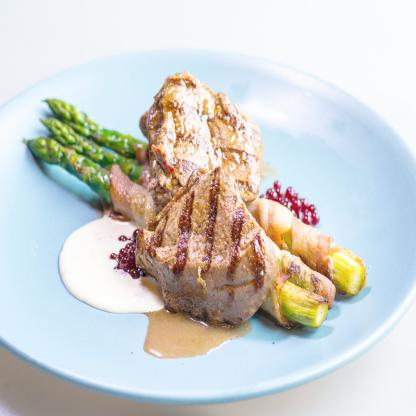Carne: (134, 170, 274, 321), (140, 68, 265, 203)
